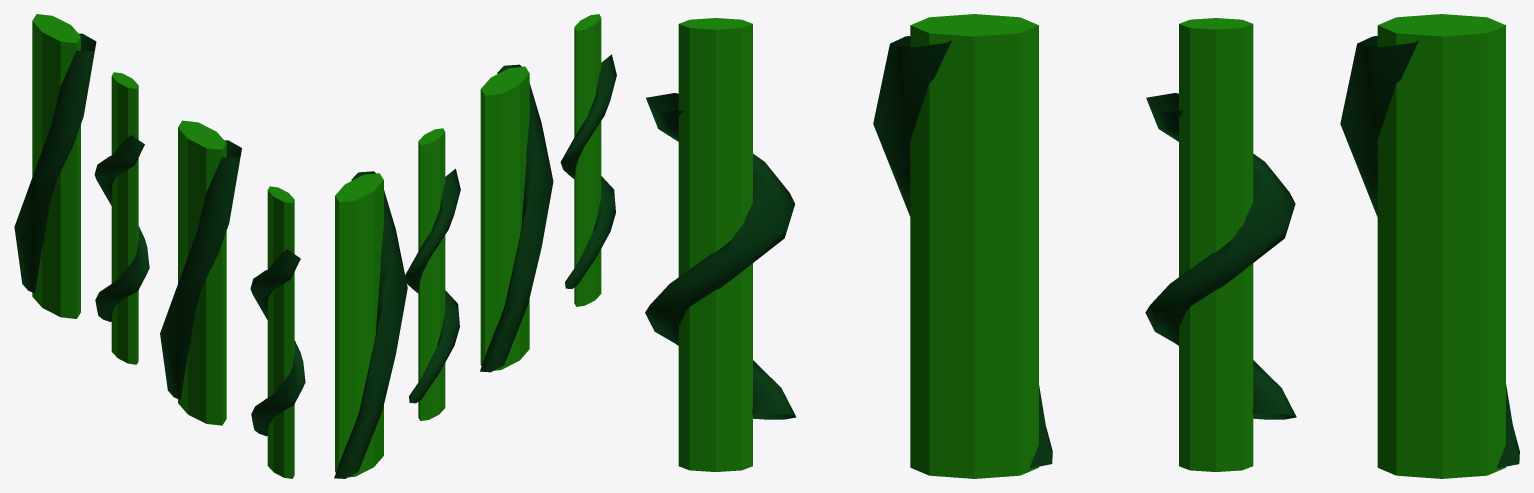
The model's file is Leana4.fbx.
The picture shows the model from 3 angles, left to right: view 1: azimuth 30°, elevation 25°; view 2: azimuth 150°, elevation 25°; view 3: azimuth 270°, elevation 25°; orthographic projection. The views are drawn at different scales.
Parts seen in each view (by area): view 1: Cylinder.003; view 2: Cylinder.003; view 3: Cylinder.003.
Boxes of the visible parts, bbox=[...] form: Cylinder.003: bbox=[14, 14, 305, 478]; Cylinder.003: bbox=[334, 14, 616, 478]; Cylinder.003: bbox=[645, 14, 1519, 478].
Bounding box in the file's own units: 83.3 × 405 × 725.
